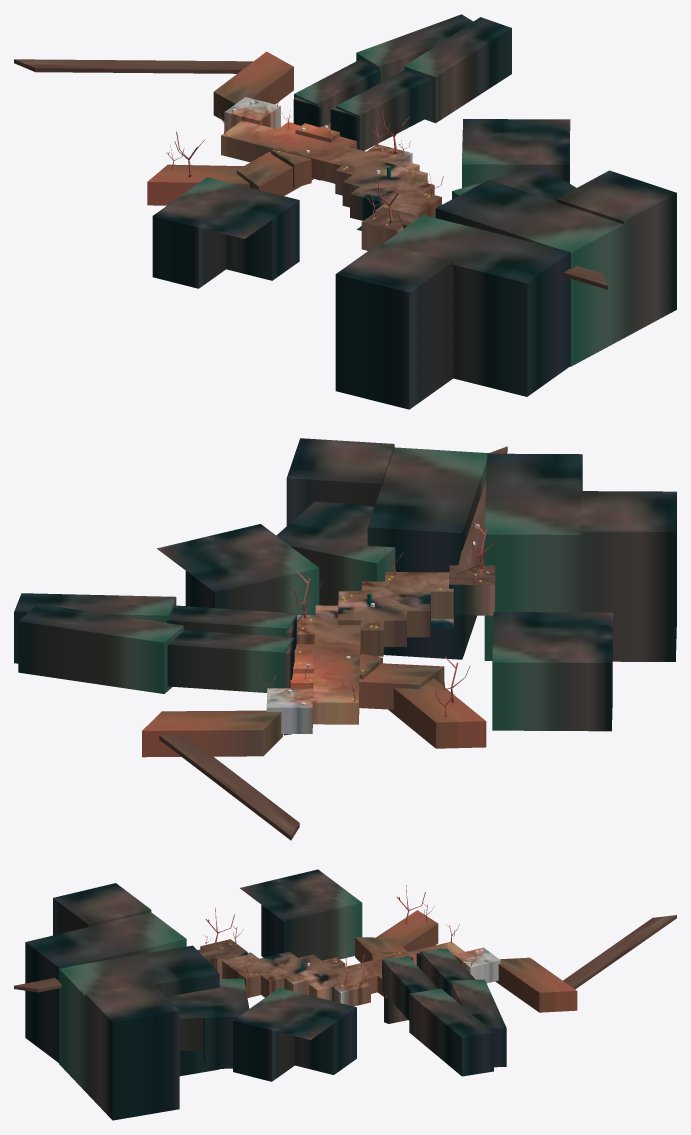
File: simple-1.gltf
The picture shows the model from 3 angles, top to bottom: view 1: azimuth 30°, elevation 25°; view 2: azimuth 150°, elevation 25°; view 3: azimuth 270°, elevation 25°; orthographic projection. The views are drawn at different scales.
Visible parts, largest first — view 1: Plane.006; view 2: Plane.006; view 3: Plane.006.
Part boxes in pixels (box(x1,y1,x2,y2)): Plane.006: box(14, 14, 676, 409); Plane.006: box(14, 438, 676, 840); Plane.006: box(14, 869, 676, 1120).
Size of the model in its own units: 355 by 104 by 546.
Materials: 3 (1 with a texture image).
